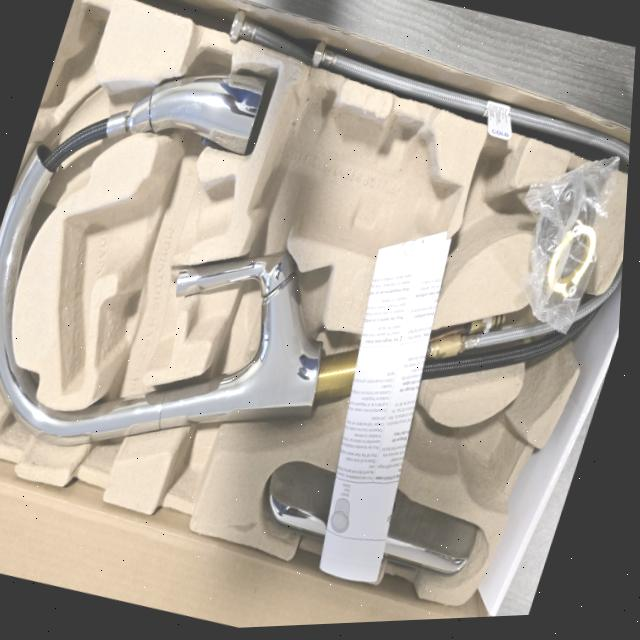1o: (0, 70, 610, 443)
2m: (65, 173, 232, 389)
3m: (249, 83, 465, 261)
4o: (266, 459, 476, 574)
5m: (456, 417, 519, 498)
6: (521, 154, 619, 335)
7m: (418, 131, 521, 302)
8: (318, 230, 452, 582)
